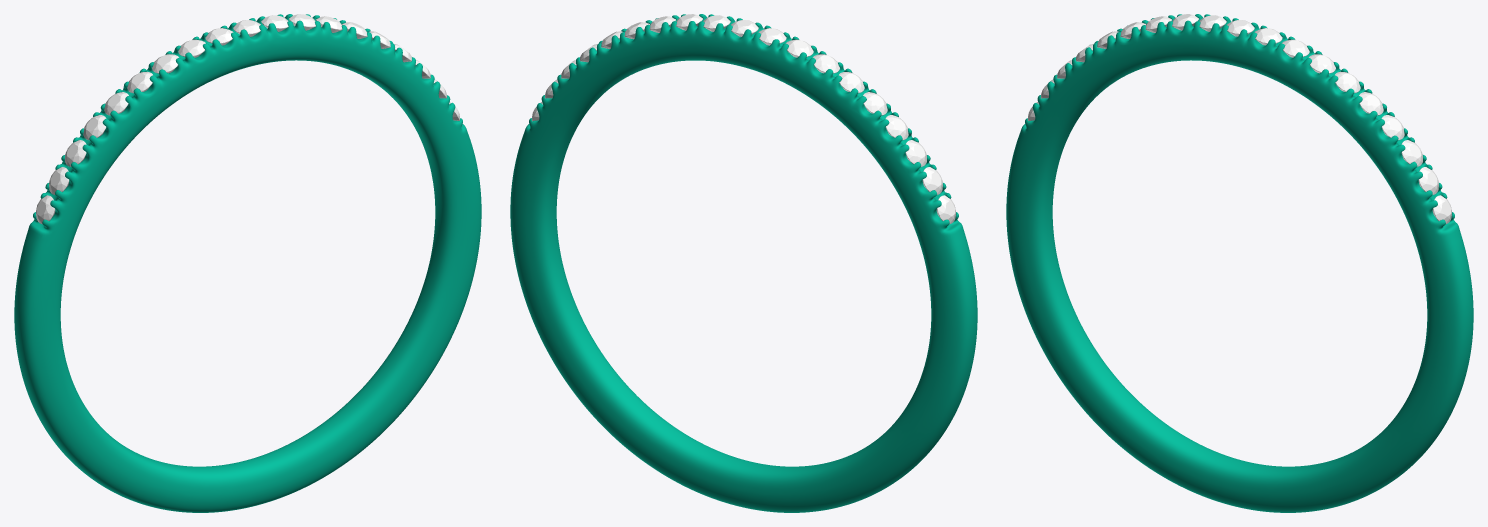
The model's file is BE266_RENDER.glb.
3 views of the same model, side by side, from view 1: azimuth 30°, elevation 25°; view 2: azimuth 150°, elevation 25°; view 3: azimuth 330°, elevation 25° (orthographic).
Visible parts, largest first — view 1: Metal03; view 2: Metal03; view 3: Metal03.
Part boxes in pixels (x1,y1,x2,y2): Metal03: (14,14,481,512); Metal03: (510,14,977,512); Metal03: (1006,14,1473,512).
Size of the model in its own units: 19.9 by 19.87 by 1.4.
